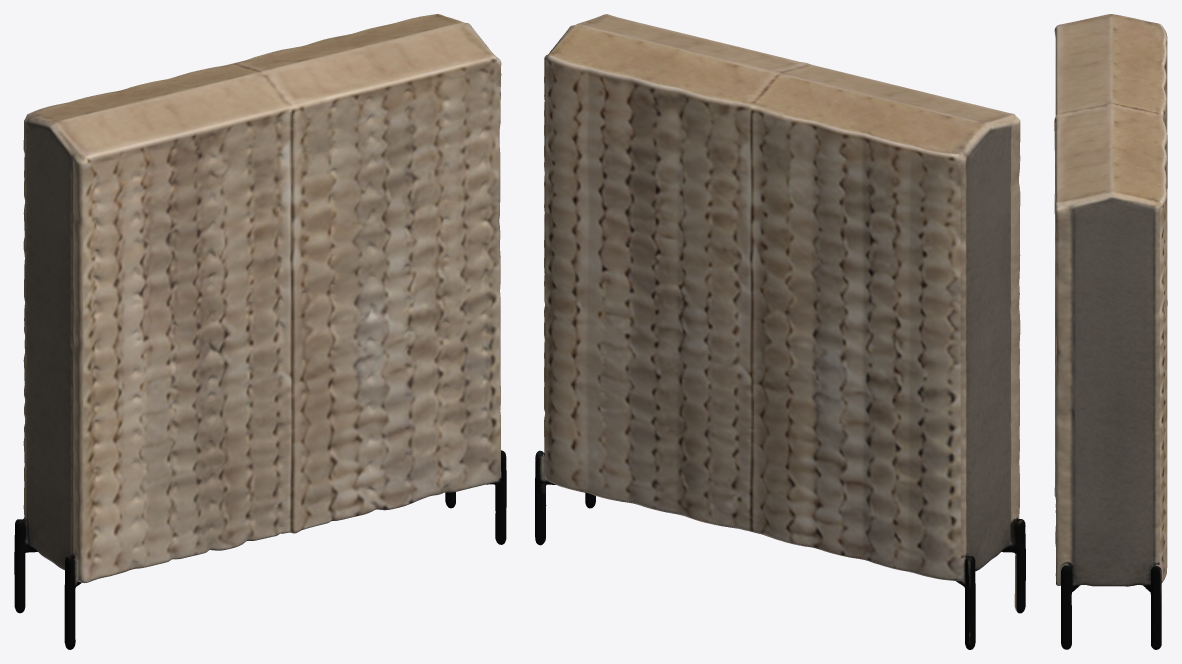
The model's file is product-glam-raffael-39-grey-wash-wood-bar-cabinet-with-storage-07.glb.
3 renders of one model, left to right at view 1: azimuth 30°, elevation 25°; view 2: azimuth 150°, elevation 25°; view 3: azimuth 270°, elevation 25°, orthographic. The views are drawn at different scales.
Parts seen in each view (by area): view 1: geometry_0; view 2: geometry_0; view 3: geometry_0.
Boxes of the visible parts, x1,y1,x2,y2 form: geometry_0: (14,14,506,649); geometry_0: (535,14,1025,649); geometry_0: (1054,14,1167,649).
Size of the model in its own units: 1.79 by 1.97 by 0.4486.
1 material, 1 textured.
